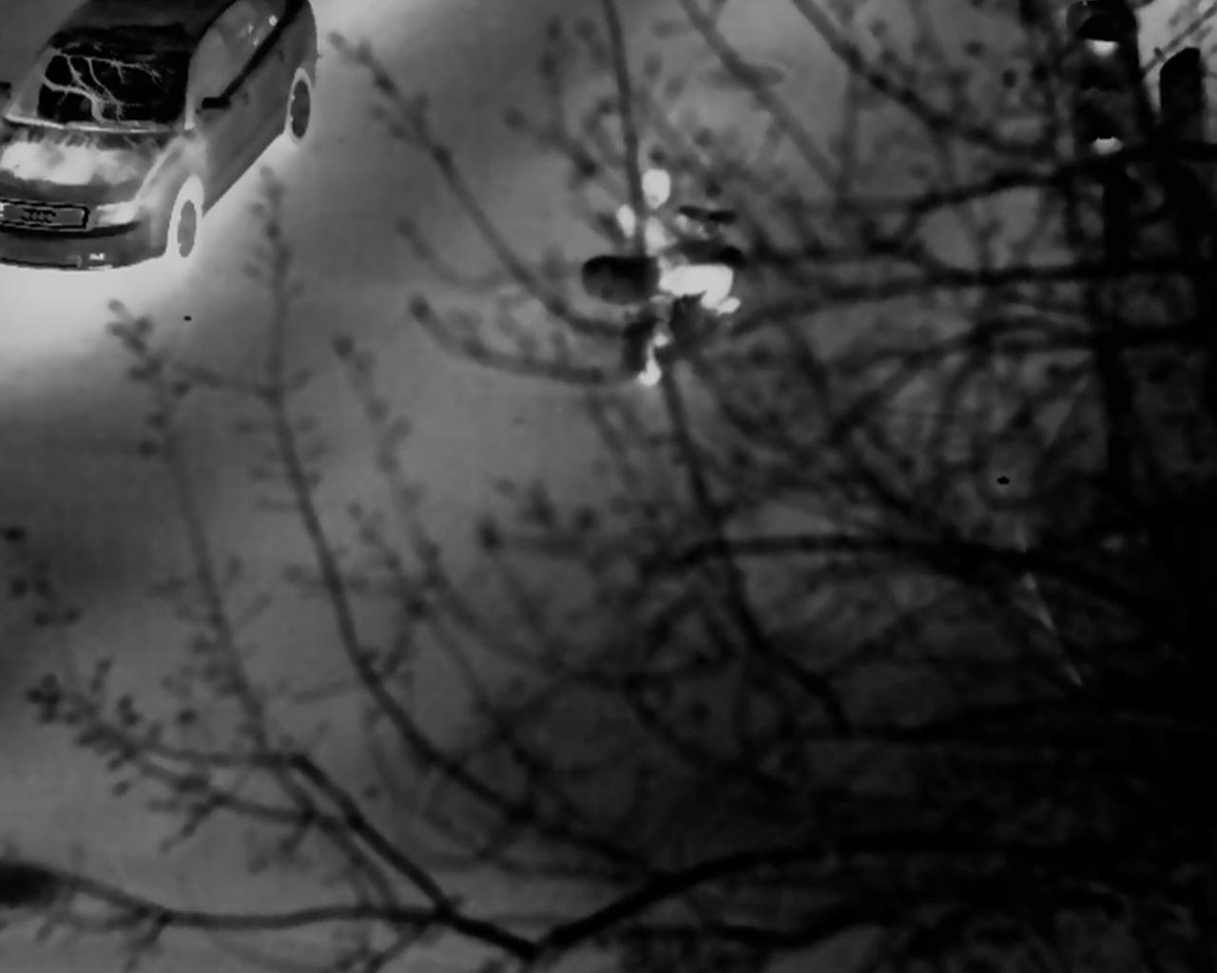person: (603, 158, 759, 331)
